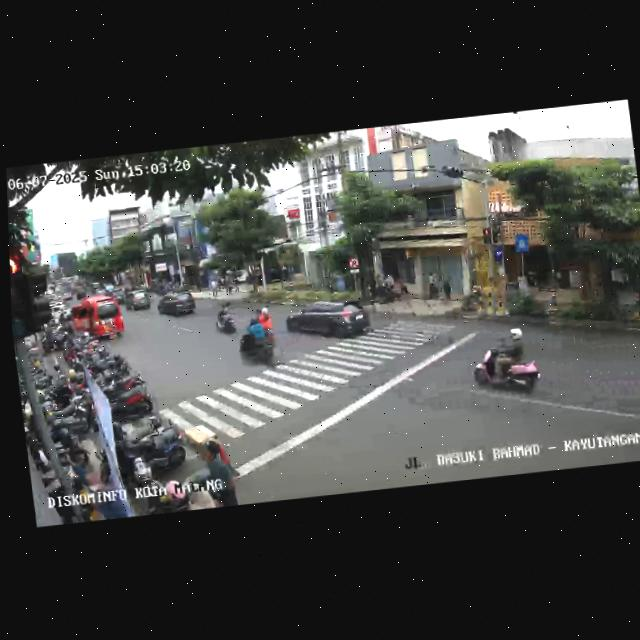car: (282, 295, 368, 350), (66, 294, 125, 346), (155, 290, 199, 322), (127, 287, 154, 312), (639, 381, 640, 459)
motorcycle: (471, 327, 544, 403), (234, 313, 277, 370), (212, 299, 238, 337)
person: (192, 435, 241, 508)
